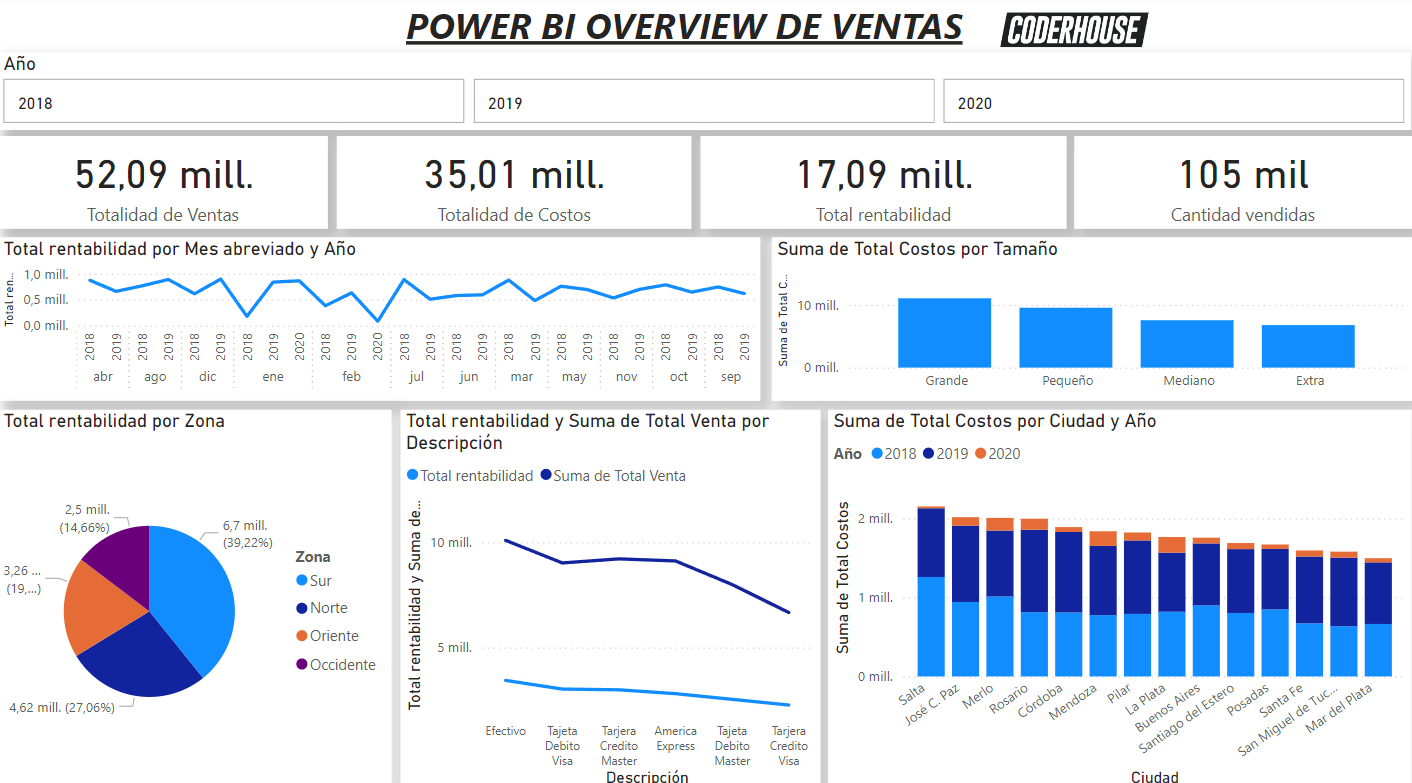

Layout of this report page (visuals, bound fields, positions):
{"tool":"powerbi","page":{"name":"Overview","canvas":[1280,720],"ordinal":0},"visuals":[{"type":"textbox","box":[364.1,0,559.7,62.2],"z":0},{"type":"advancedSlicerVisual","fields":{"Values":["Calendario.Año"]},"box":[0,50.9,1278.8,70.1],"z":1000},{"type":"card","fields":{"Values":["Ventas.Totalidad de Ventas"]},"box":[0,126.6,298.5,83.7],"z":2000},{"type":"card","fields":{"Values":["Ventas.Totalidad de Costos"]},"box":[306.4,126.6,321.1,83.7],"z":3000},{"type":"card","fields":{"Values":["Ventas.Total rentabilidad"]},"box":[635.4,126.6,331.3,83.7],"z":4000},{"type":"card","fields":{"Values":["Ventas.Cantidad vendidas"]},"box":[973.5,126.6,305.3,83.7],"z":5000},{"type":"lineChart","fields":{"Y":["Ventas.Total rentabilidad"],"Category":["Calendario.Mes abreviado","Calendario.Año"]},"box":[0,218.2,689.7,148.1],"z":6000},{"type":"columnChart","fields":{"Y":["Sum(Ventas.Total Costos)"],"Category":["Producto.Tamaño "]},"box":[699.9,218.2,580,148.1],"z":7000},{"type":"pieChart","fields":{"Y":["Ventas.Total rentabilidad"],"Category":["Vendedor.Zona"]},"box":[0,374,356.2,346],"z":8000},{"type":"lineChart","fields":{"Y":["Ventas.Total rentabilidad","Sum(Ventas.Total Venta)"],"Category":["Medio de pago.Descripción"]},"box":[364.1,374,379.9,346],"z":9000},{"type":"columnChart","fields":{"Category":["Territorio.Ciudad"],"Y":["Sum(Ventas.Total Costos)"],"Series":["Calendario.Año"]},"box":[750.8,374,528,346],"z":10000},{"type":"image","box":[892.1,10.2,162.8,40.7],"z":11000}]}

Visuals, with their boxes in screenshot pixels (x1, y1, x2, y2), scaled from the page's 1280x720 canvas onto the 1412x783 screenshot:
textbox: 402, 0, 1019, 68
advancedSlicerVisual - Calendario.Año: 0, 55, 1411, 132
card - Ventas.Totalidad de Ventas: 0, 138, 329, 229
card - Ventas.Totalidad de Costos: 338, 138, 692, 229
card - Ventas.Total rentabilidad: 701, 138, 1066, 229
card - Ventas.Cantidad vendidas: 1074, 138, 1411, 229
lineChart - Ventas.Total rentabilidad x Calendario.Mes abreviado: 0, 237, 761, 398
columnChart - Sum(Ventas.Total Costos) x Producto.Tamaño : 772, 237, 1411, 398
pieChart - Ventas.Total rentabilidad x Vendedor.Zona: 0, 407, 393, 782
lineChart - Ventas.Total rentabilidad x Sum(Ventas.Total Venta): 402, 407, 821, 782
columnChart - Territorio.Ciudad x Sum(Ventas.Total Costos): 828, 407, 1411, 782
image: 984, 11, 1164, 55
